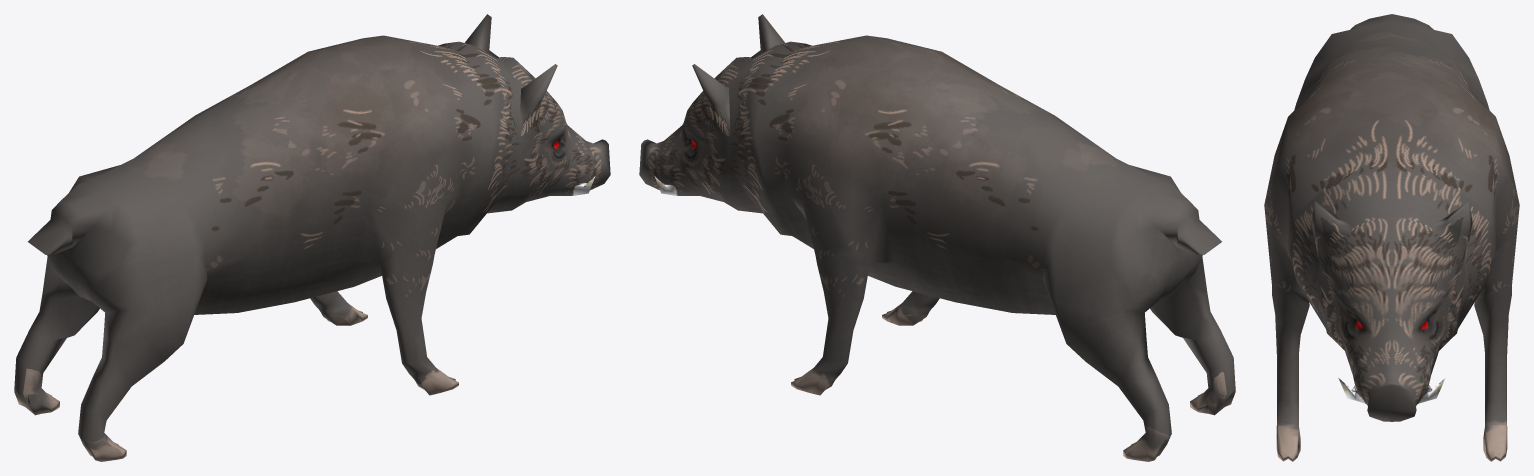
File: boar.fbx
The picture shows the model from 3 angles, left to right: view 1: azimuth 30°, elevation 25°; view 2: azimuth 150°, elevation 25°; view 3: azimuth 270°, elevation 25°; orthographic projection. The views are drawn at different scales.
Visible parts, largest first — view 1: rabbit_obj_01_uvdone:pCube5; view 2: rabbit_obj_01_uvdone:pCube5; view 3: rabbit_obj_01_uvdone:pCube5.
Boxes of the visible parts, box(x1,y1,x2,y2) form: rabbit_obj_01_uvdone:pCube5: box(14, 14, 610, 461); rabbit_obj_01_uvdone:pCube5: box(639, 14, 1235, 461); rabbit_obj_01_uvdone:pCube5: box(1264, 14, 1519, 461).
Size of the model in its own units: 282 by 147 by 96.88.
1 material, 1 textured.
